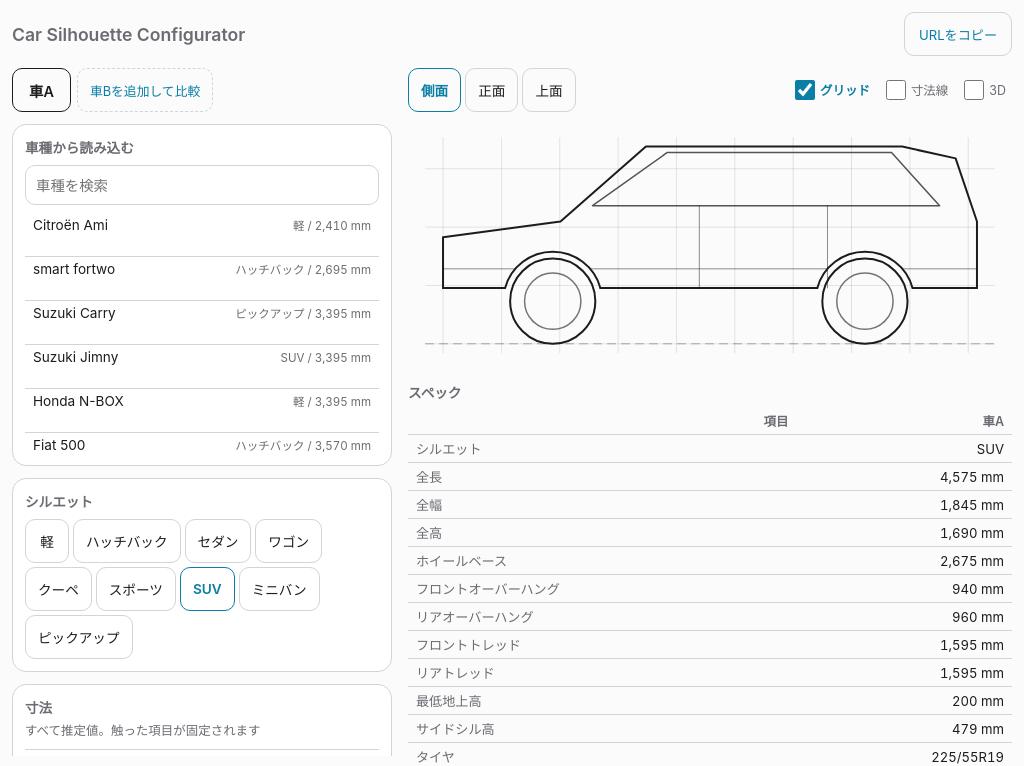
App グリッドと寸法線 › 寸法線を入れると数値付きのラベルが出る
Click the checkbox labelled "寸法線".
click(896, 90)  # box [886,80,906,100]
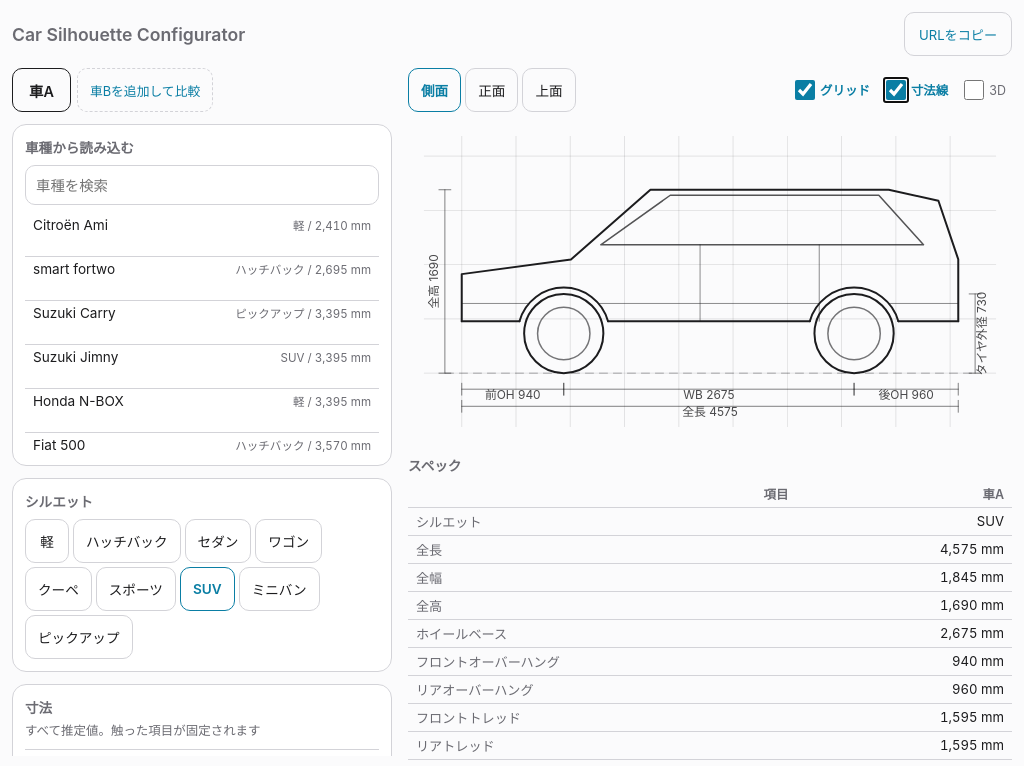
Result: the picture shows "全長 4575" at [682,404,738,419]
Result: the picture shows "WB 2675" at [683,387,734,402]
Result: the picture shows "全高 1690" at [426,254,441,308]
